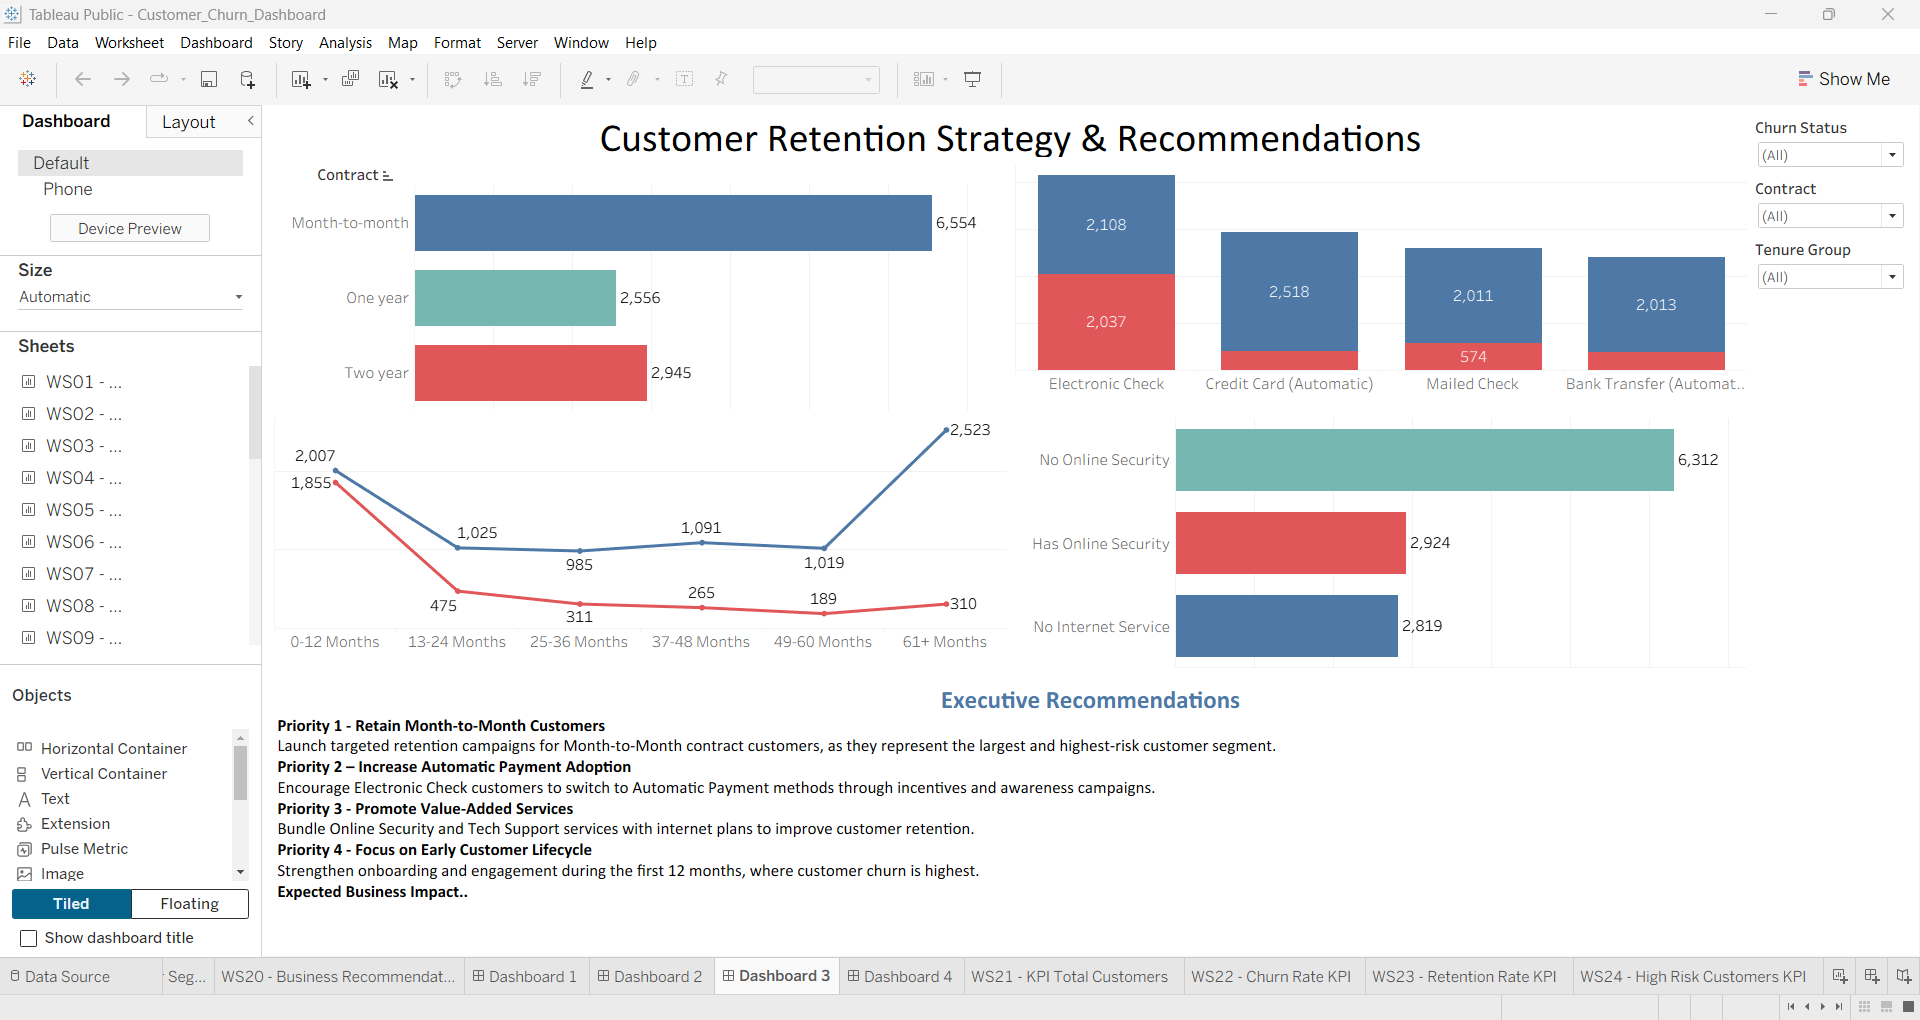

This screenshot's page, from the dashboard's own definition file:
{"tool":"tableau","page":{"name":"Dashboard 3","canvas":[1000,1000],"units":"permille","ordinal":2},"visuals":[{"type":"text","box":[4.8,9.4,893.8,56.6]},{"type":"filter","title":"WS14 - Customer Distribution Across Tenure Groups","param":"[federated.1d8sdiq1w6mdpy19j9tt40uc6hzn].[none:Calculation_1875467789008031744:n","box":[898.6,9.4,96.6,71.7]},{"type":"worksheet","title":"WS12 - Customer Distribution by Contract Type","mark":"Automatic","rows":["Contract"],"cols":["customer_churn.csv_099EB1C3FDB0448FA6F9C6B7F79F960C"],"box":[4.8,66,446.9,297.4]},{"type":"worksheet","title":"WS13 - Customer Churn by Payment Method","mark":"Automatic","rows":["customer_churn.csv_099EB1C3FDB0448FA6F9C6B7F79F960C"],"cols":["Calculation_1875467789091336194"],"box":[451.7,66,446.9,297.4]},{"type":"filter","title":"WS12 - Customer Distribution by Contract Type","param":"[federated.1d8sdiq1w6mdpy19j9tt40uc6hzn].[none:Contract:nk]","box":[898.6,81.1,96.6,71.7]},{"type":"filter","title":"WS14 - Customer Distribution Across Tenure Groups","param":"[federated.1d8sdiq1w6mdpy19j9tt40uc6hzn].[none:Calculation_1875467789094731779:n","box":[898.6,152.8,96.6,71.7]},{"type":"worksheet","title":"WS14 - Customer Distribution Across Tenure Groups","mark":"Line","rows":["customer_churn.csv_099EB1C3FDB0448FA6F9C6B7F79F960C"],"cols":["Calculation_1875467789094731779"],"box":[4.8,363.4,446.9,302.9]},{"type":"worksheet","title":"WS15 - Churned Customers by Online Security","mark":"Bar","rows":["OnlineSecurity"],"cols":["customer_churn.csv_099EB1C3FDB0448FA6F9C6B7F79F960C"],"box":[451.7,363.4,446.9,302.9]},{"type":"text","box":[4.8,666.3,990.3,286.7]}]}

Visuals, with their boxes on the dashboard's canvas, which has no fixed pixel size, in thousandths of its width and height (x1, y1, x2, y2). These are canvas units, not pixel positions in the 1920x1020 screenshot, which may show the page scaled, cropped or inside an application window:
text: (left=5, top=9, right=899, bottom=66)
"WS14 - Customer Distribution Across Tenure Groups" filter: (left=899, top=9, right=995, bottom=81)
"WS12 - Customer Distribution by Contract Type" worksheet: (left=5, top=66, right=452, bottom=363)
"WS13 - Customer Churn by Payment Method" worksheet: (left=452, top=66, right=899, bottom=363)
"WS12 - Customer Distribution by Contract Type" filter: (left=899, top=81, right=995, bottom=153)
"WS14 - Customer Distribution Across Tenure Groups" filter: (left=899, top=153, right=995, bottom=224)
"WS14 - Customer Distribution Across Tenure Groups" worksheet (Line marks): (left=5, top=363, right=452, bottom=666)
"WS15 - Churned Customers by Online Security" worksheet (Bar marks): (left=452, top=363, right=899, bottom=666)
text: (left=5, top=666, right=995, bottom=953)
